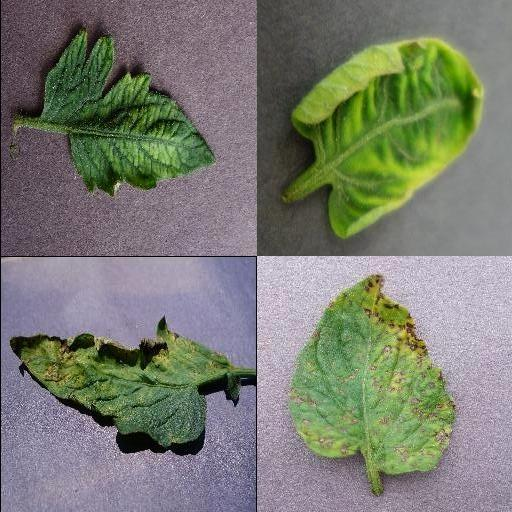Mosaic Virus: (37, 25, 217, 197)
Septoria: (287, 274, 455, 476), (9, 315, 241, 448)
Yellow Leaf Curl Virus: (288, 37, 486, 239)
